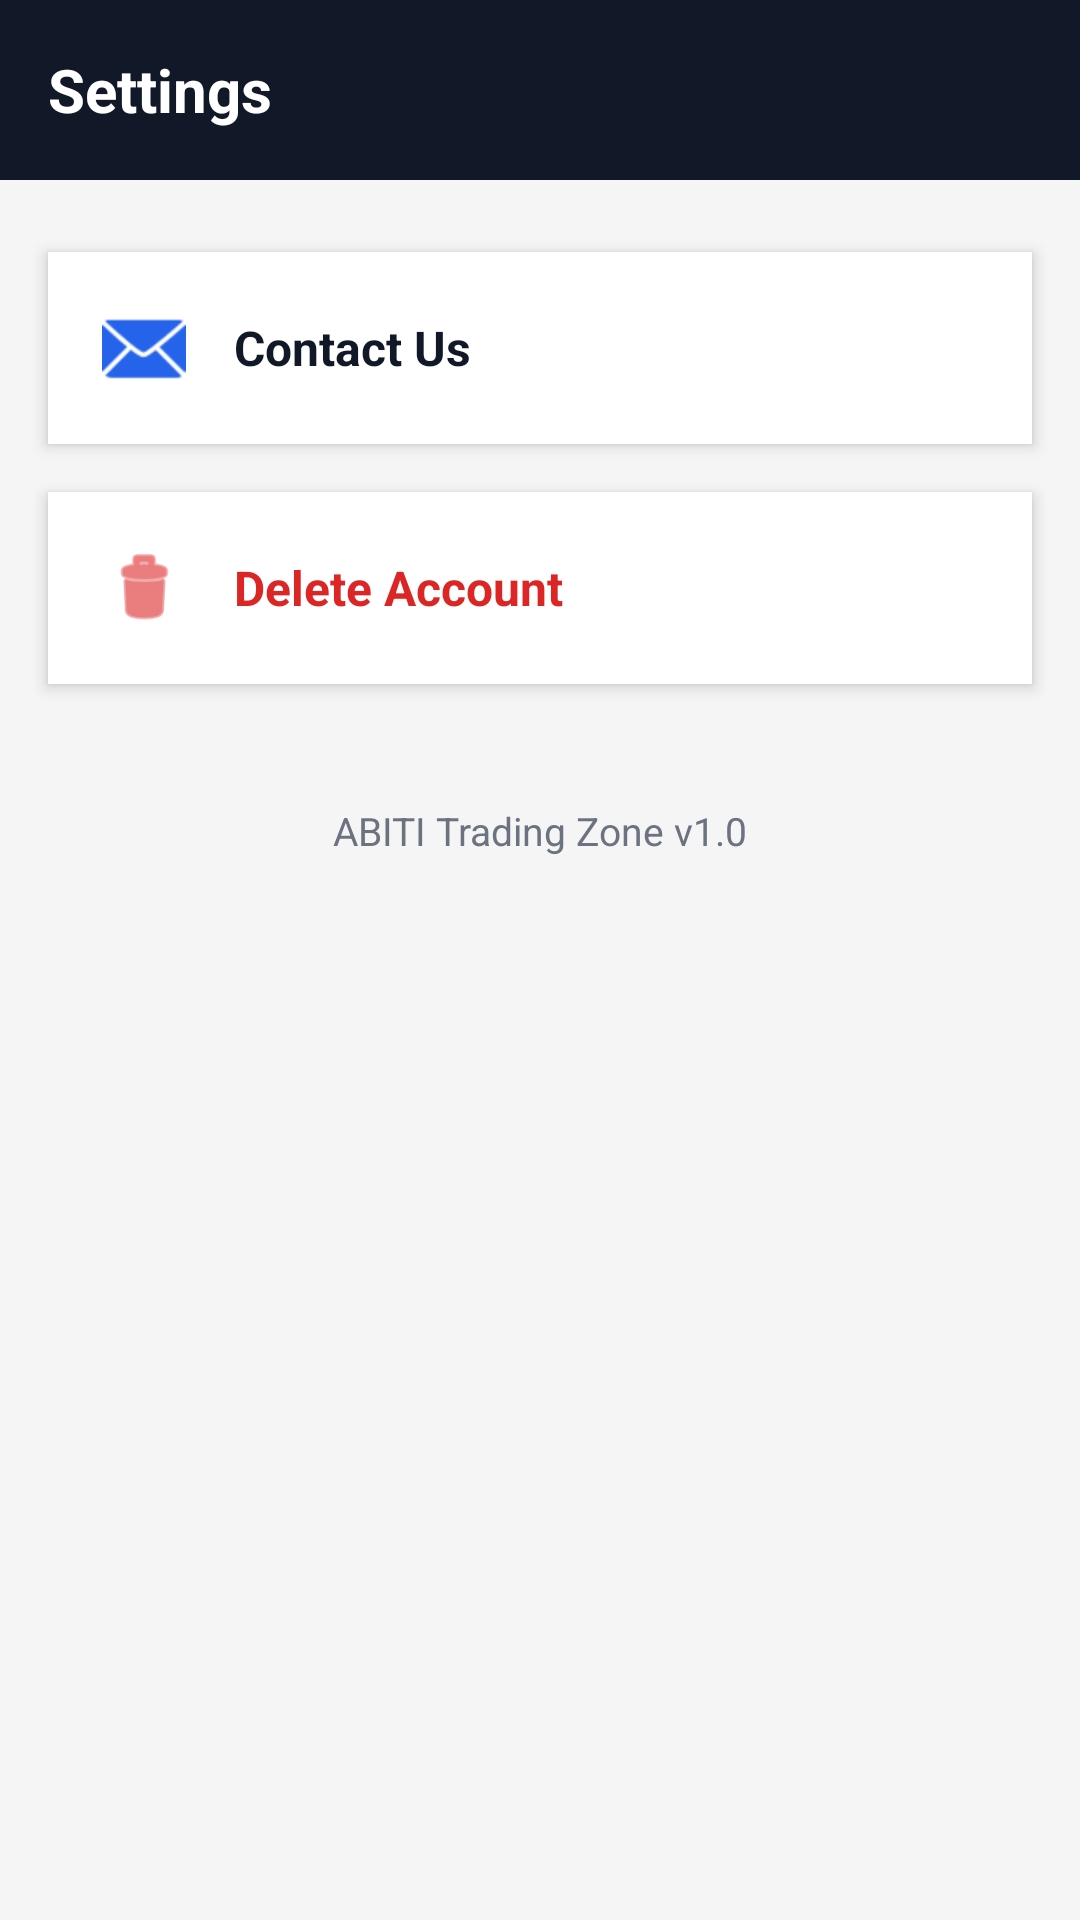

Icon click points for this 1080 x 1920 phone screenshot, format (x=x, y=y):
email: (x=144, y=349)
